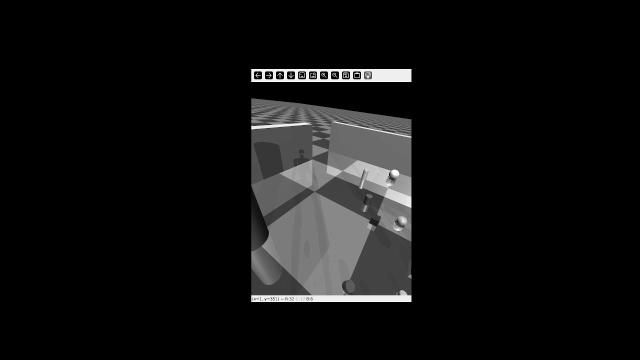cilindro: (250, 180, 278, 252), (338, 279, 356, 292), (366, 190, 374, 212), (361, 166, 371, 180)
cuadrado: (368, 211, 382, 229)
esfera: (387, 166, 406, 187), (394, 282, 411, 298), (397, 216, 408, 229)
